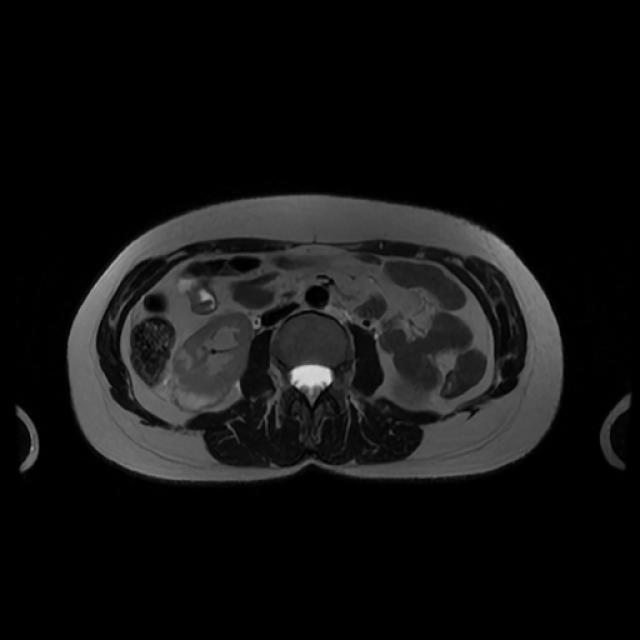sag: (177, 311, 255, 401)
sol: (395, 378, 432, 407)
